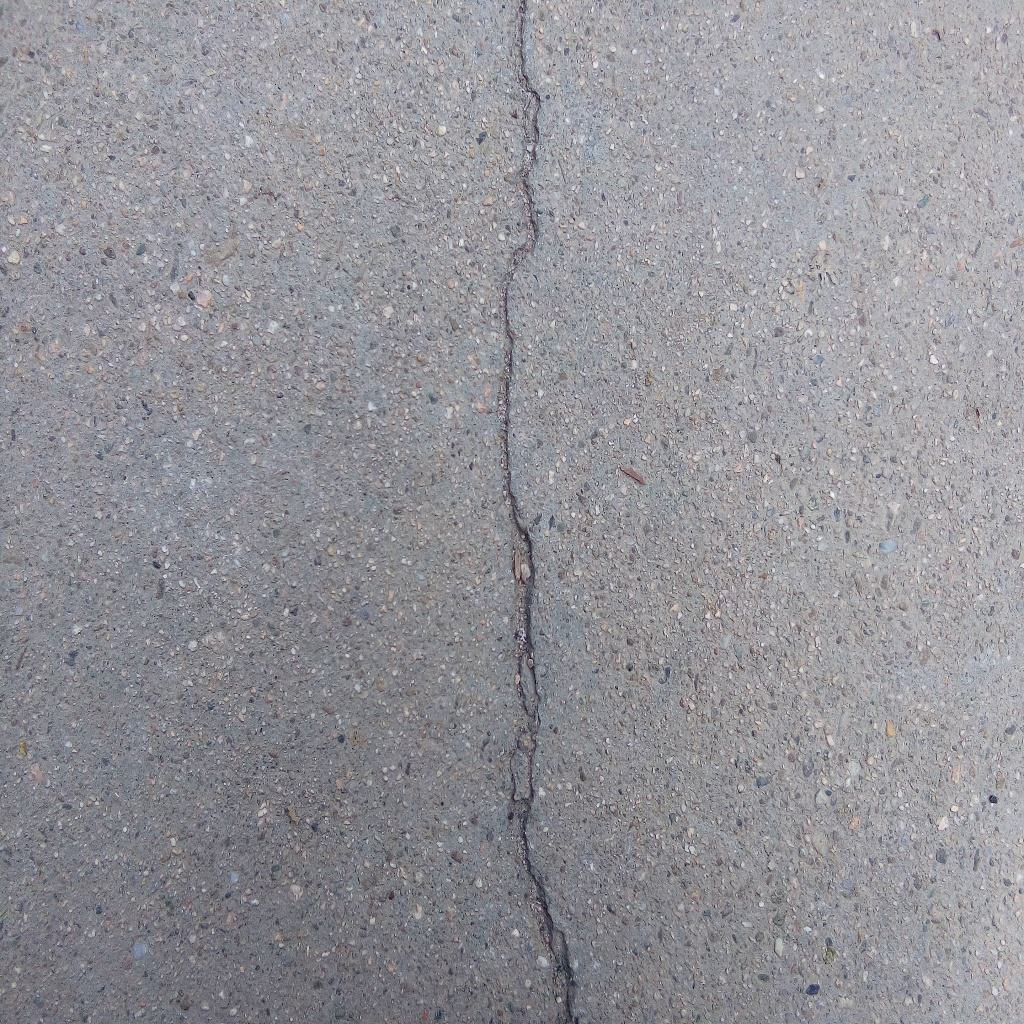Crack: (501, 1, 577, 1024)
